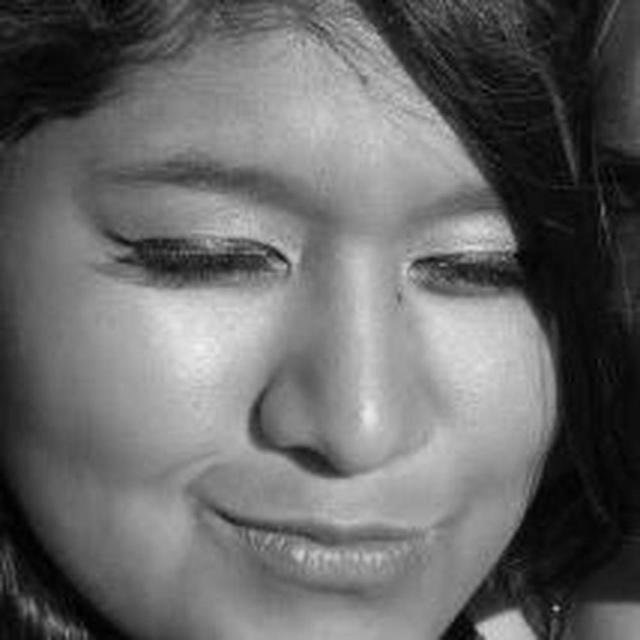real: (3, 0, 560, 640), (83, 184, 541, 304)
